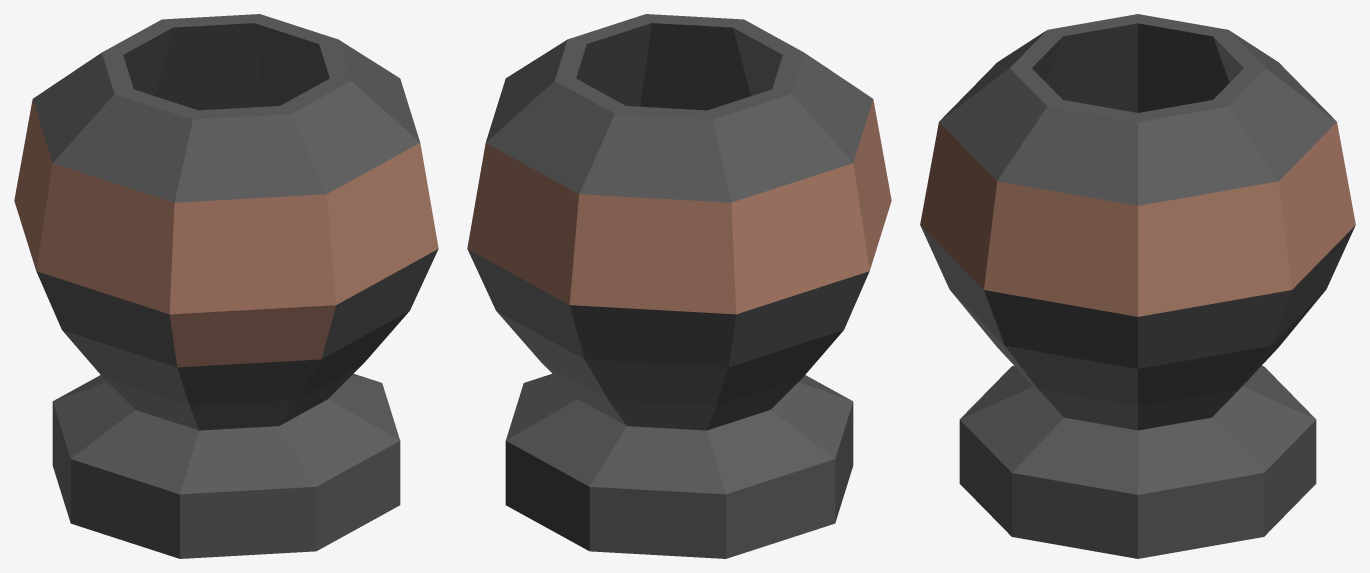
File: vase_1.fbx
The picture shows the model from 3 angles, left to right: view 1: azimuth 30°, elevation 25°; view 2: azimuth 150°, elevation 25°; view 3: azimuth 270°, elevation 25°; orthographic projection.
Visible parts, largest first — view 1: vase; view 2: vase; view 3: vase.
Part boxes in pixels (<box>): vase: <box>14,14,438,558</box>; vase: <box>467,14,891,558</box>; vase: <box>920,14,1355,558</box>.
Size of the model in its own units: 67.23 by 70.71 by 67.23.
